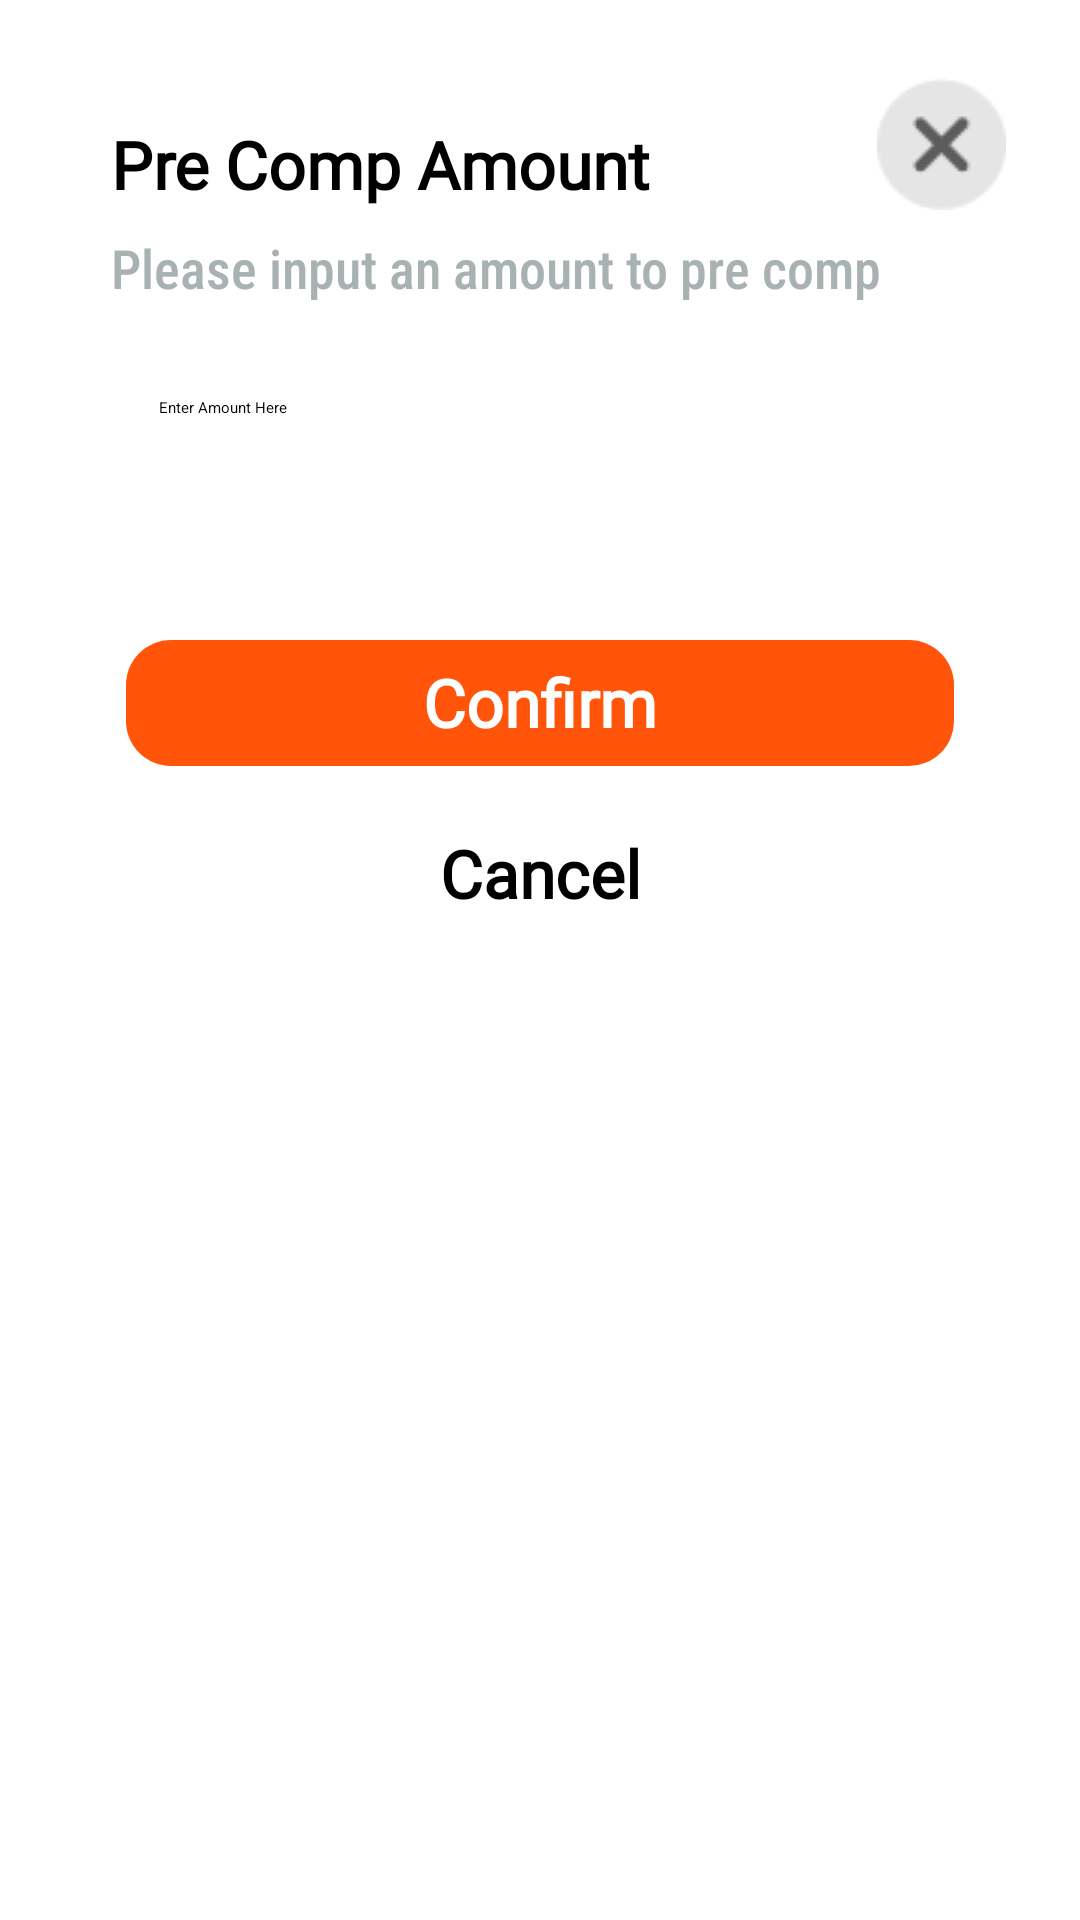

Where to tap for icons on this 1080 x 1920 app screen, as [x,y]:
close: [941,144]
